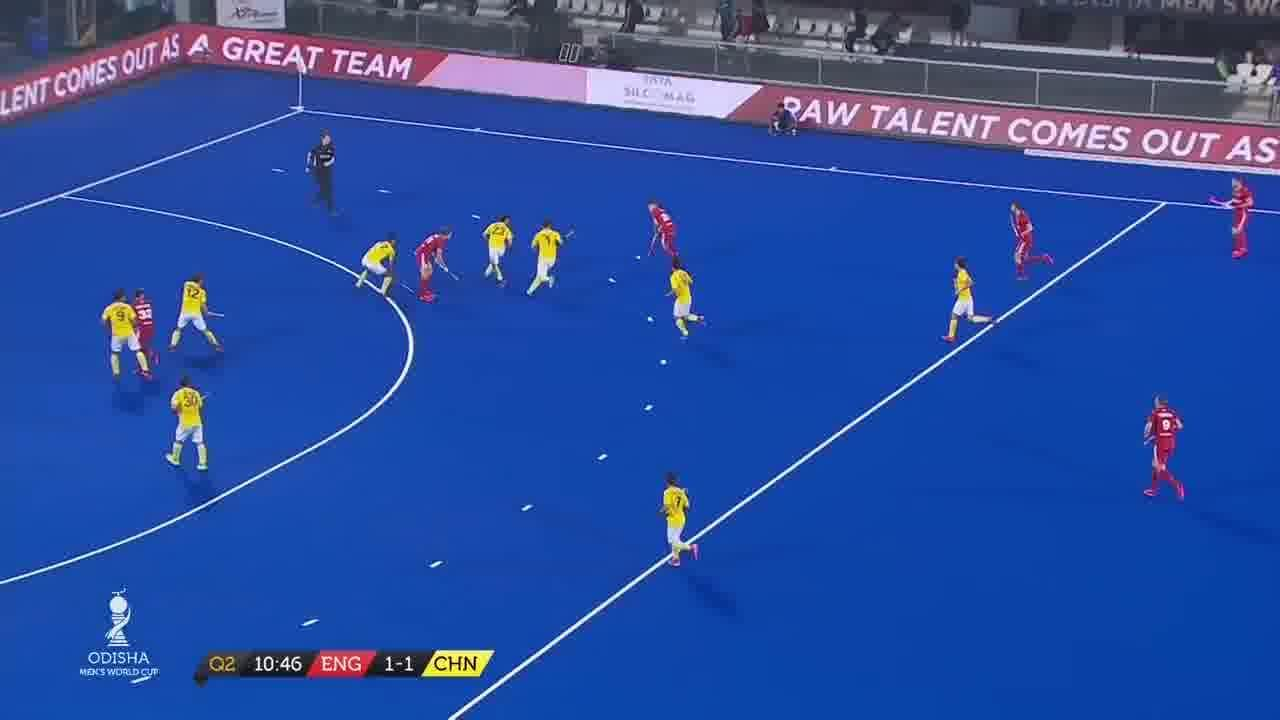ball: (631, 248, 649, 266)
